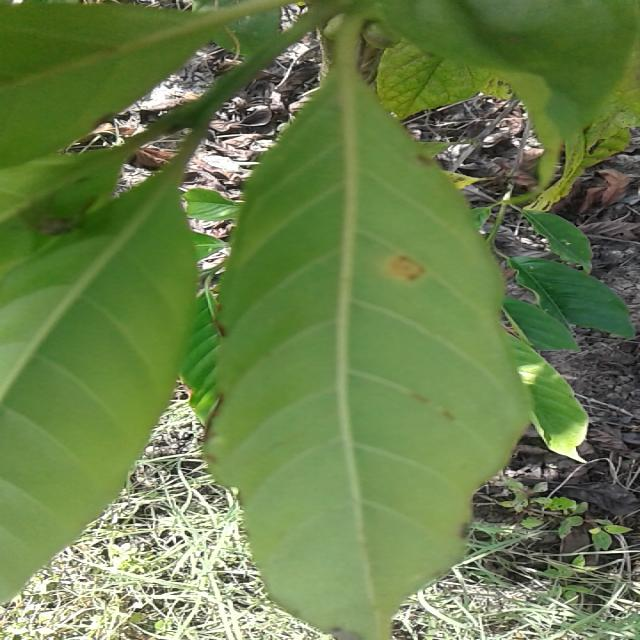Enfermedad-Roya: (191, 16, 586, 640)
